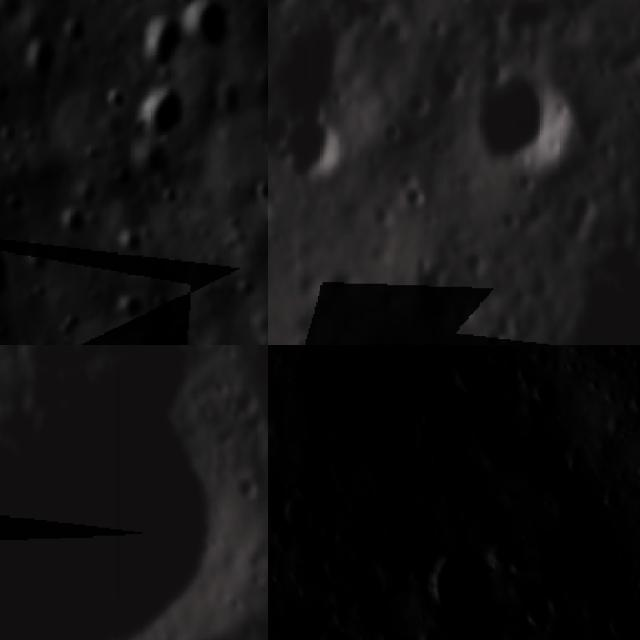crater: (0, 373, 250, 640), (468, 68, 569, 180), (268, 15, 357, 119), (413, 530, 505, 624), (318, 381, 391, 466), (126, 78, 187, 161), (284, 108, 343, 187), (439, 345, 506, 403), (126, 16, 187, 74), (278, 478, 328, 541), (517, 582, 568, 638), (472, 423, 522, 479), (497, 0, 557, 43), (487, 522, 530, 575), (183, 0, 229, 47), (268, 442, 289, 534), (301, 613, 367, 640), (523, 366, 565, 408), (432, 60, 473, 101), (268, 106, 295, 166), (603, 597, 640, 639), (401, 85, 435, 128), (379, 115, 405, 148), (402, 182, 433, 209), (624, 381, 640, 418), (268, 0, 299, 18)
